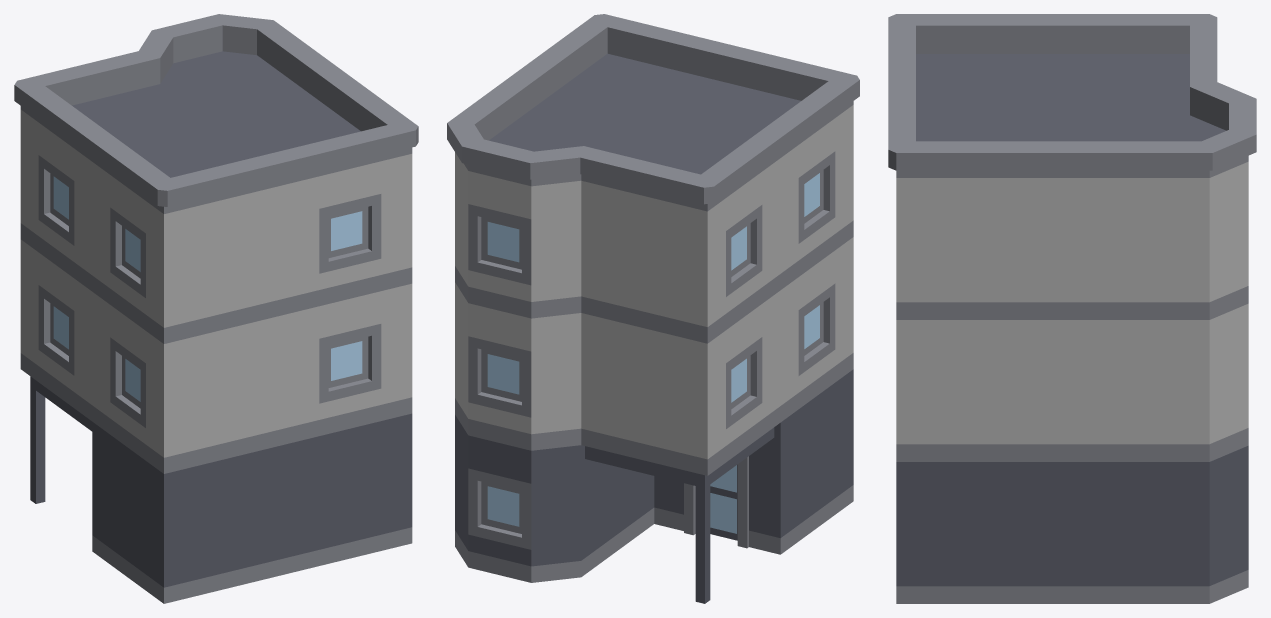
File: small_buildingC.fbx
The picture shows the model from 3 angles, left to right: view 1: azimuth 30°, elevation 25°; view 2: azimuth 150°, elevation 25°; view 3: azimuth 270°, elevation 25°; orthographic projection. The views are drawn at different scales.
Parts seen in each view (by area): view 1: small_buildingC; view 2: small_buildingC; view 3: small_buildingC.
Boxes of the visible parts, <box> form: small_buildingC: <box>14,14,418,603</box>; small_buildingC: <box>447,14,859,603</box>; small_buildingC: <box>888,14,1256,603</box>.
Bounding box in the file's own units: 8.4 × 12.8 × 9.4.
